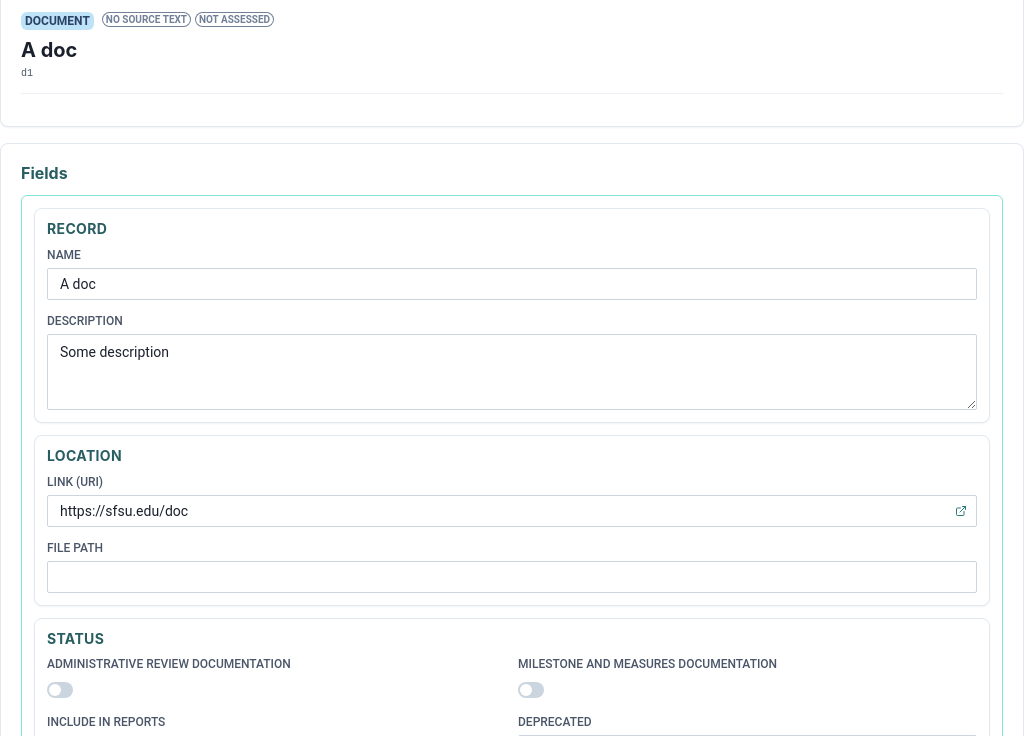
Test: editing on the panel › Cancel puts the record back
Type "!" into the field labelled "Name".
click(512, 284); type("!")  # box [47, 268, 977, 300]
(page scrolled)
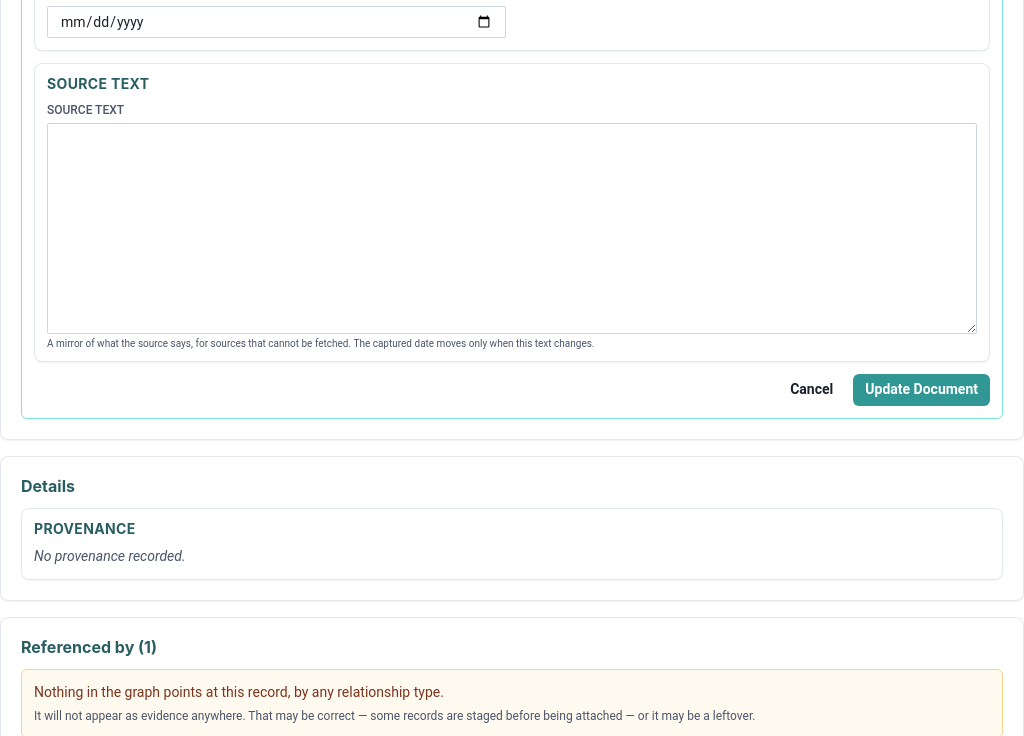
Click the button "Cancel".
click(812, 390)  # box [778, 374, 845, 406]
(page scrolled)
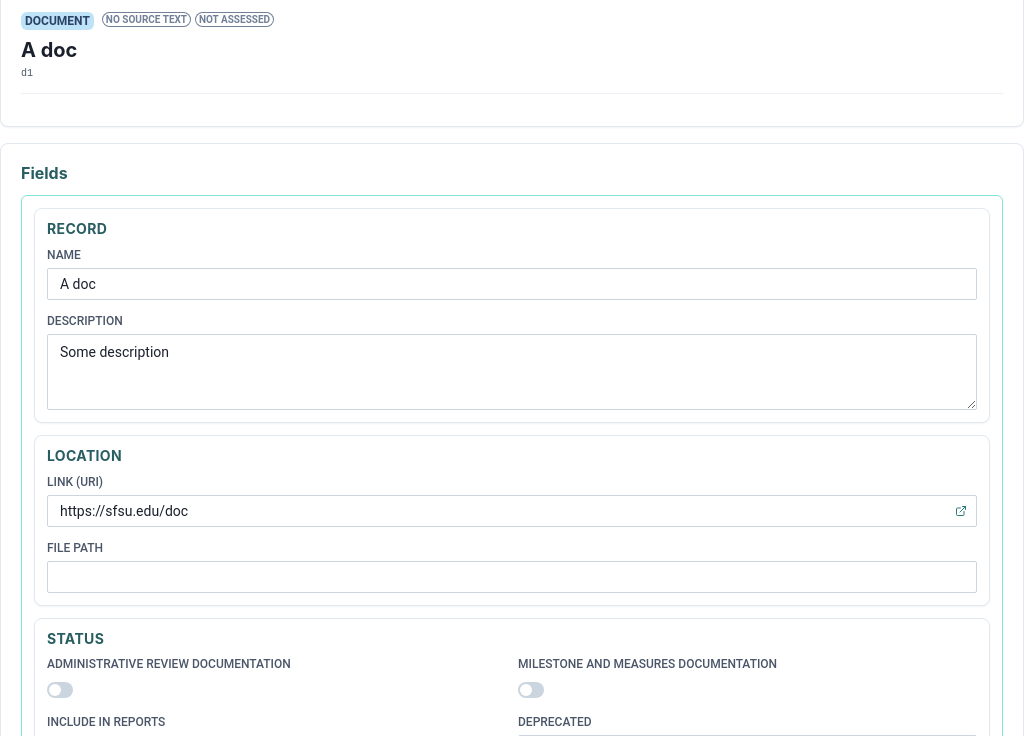
Expected: the field labelled "Name" holds "A doc", [47, 268, 977, 300]
